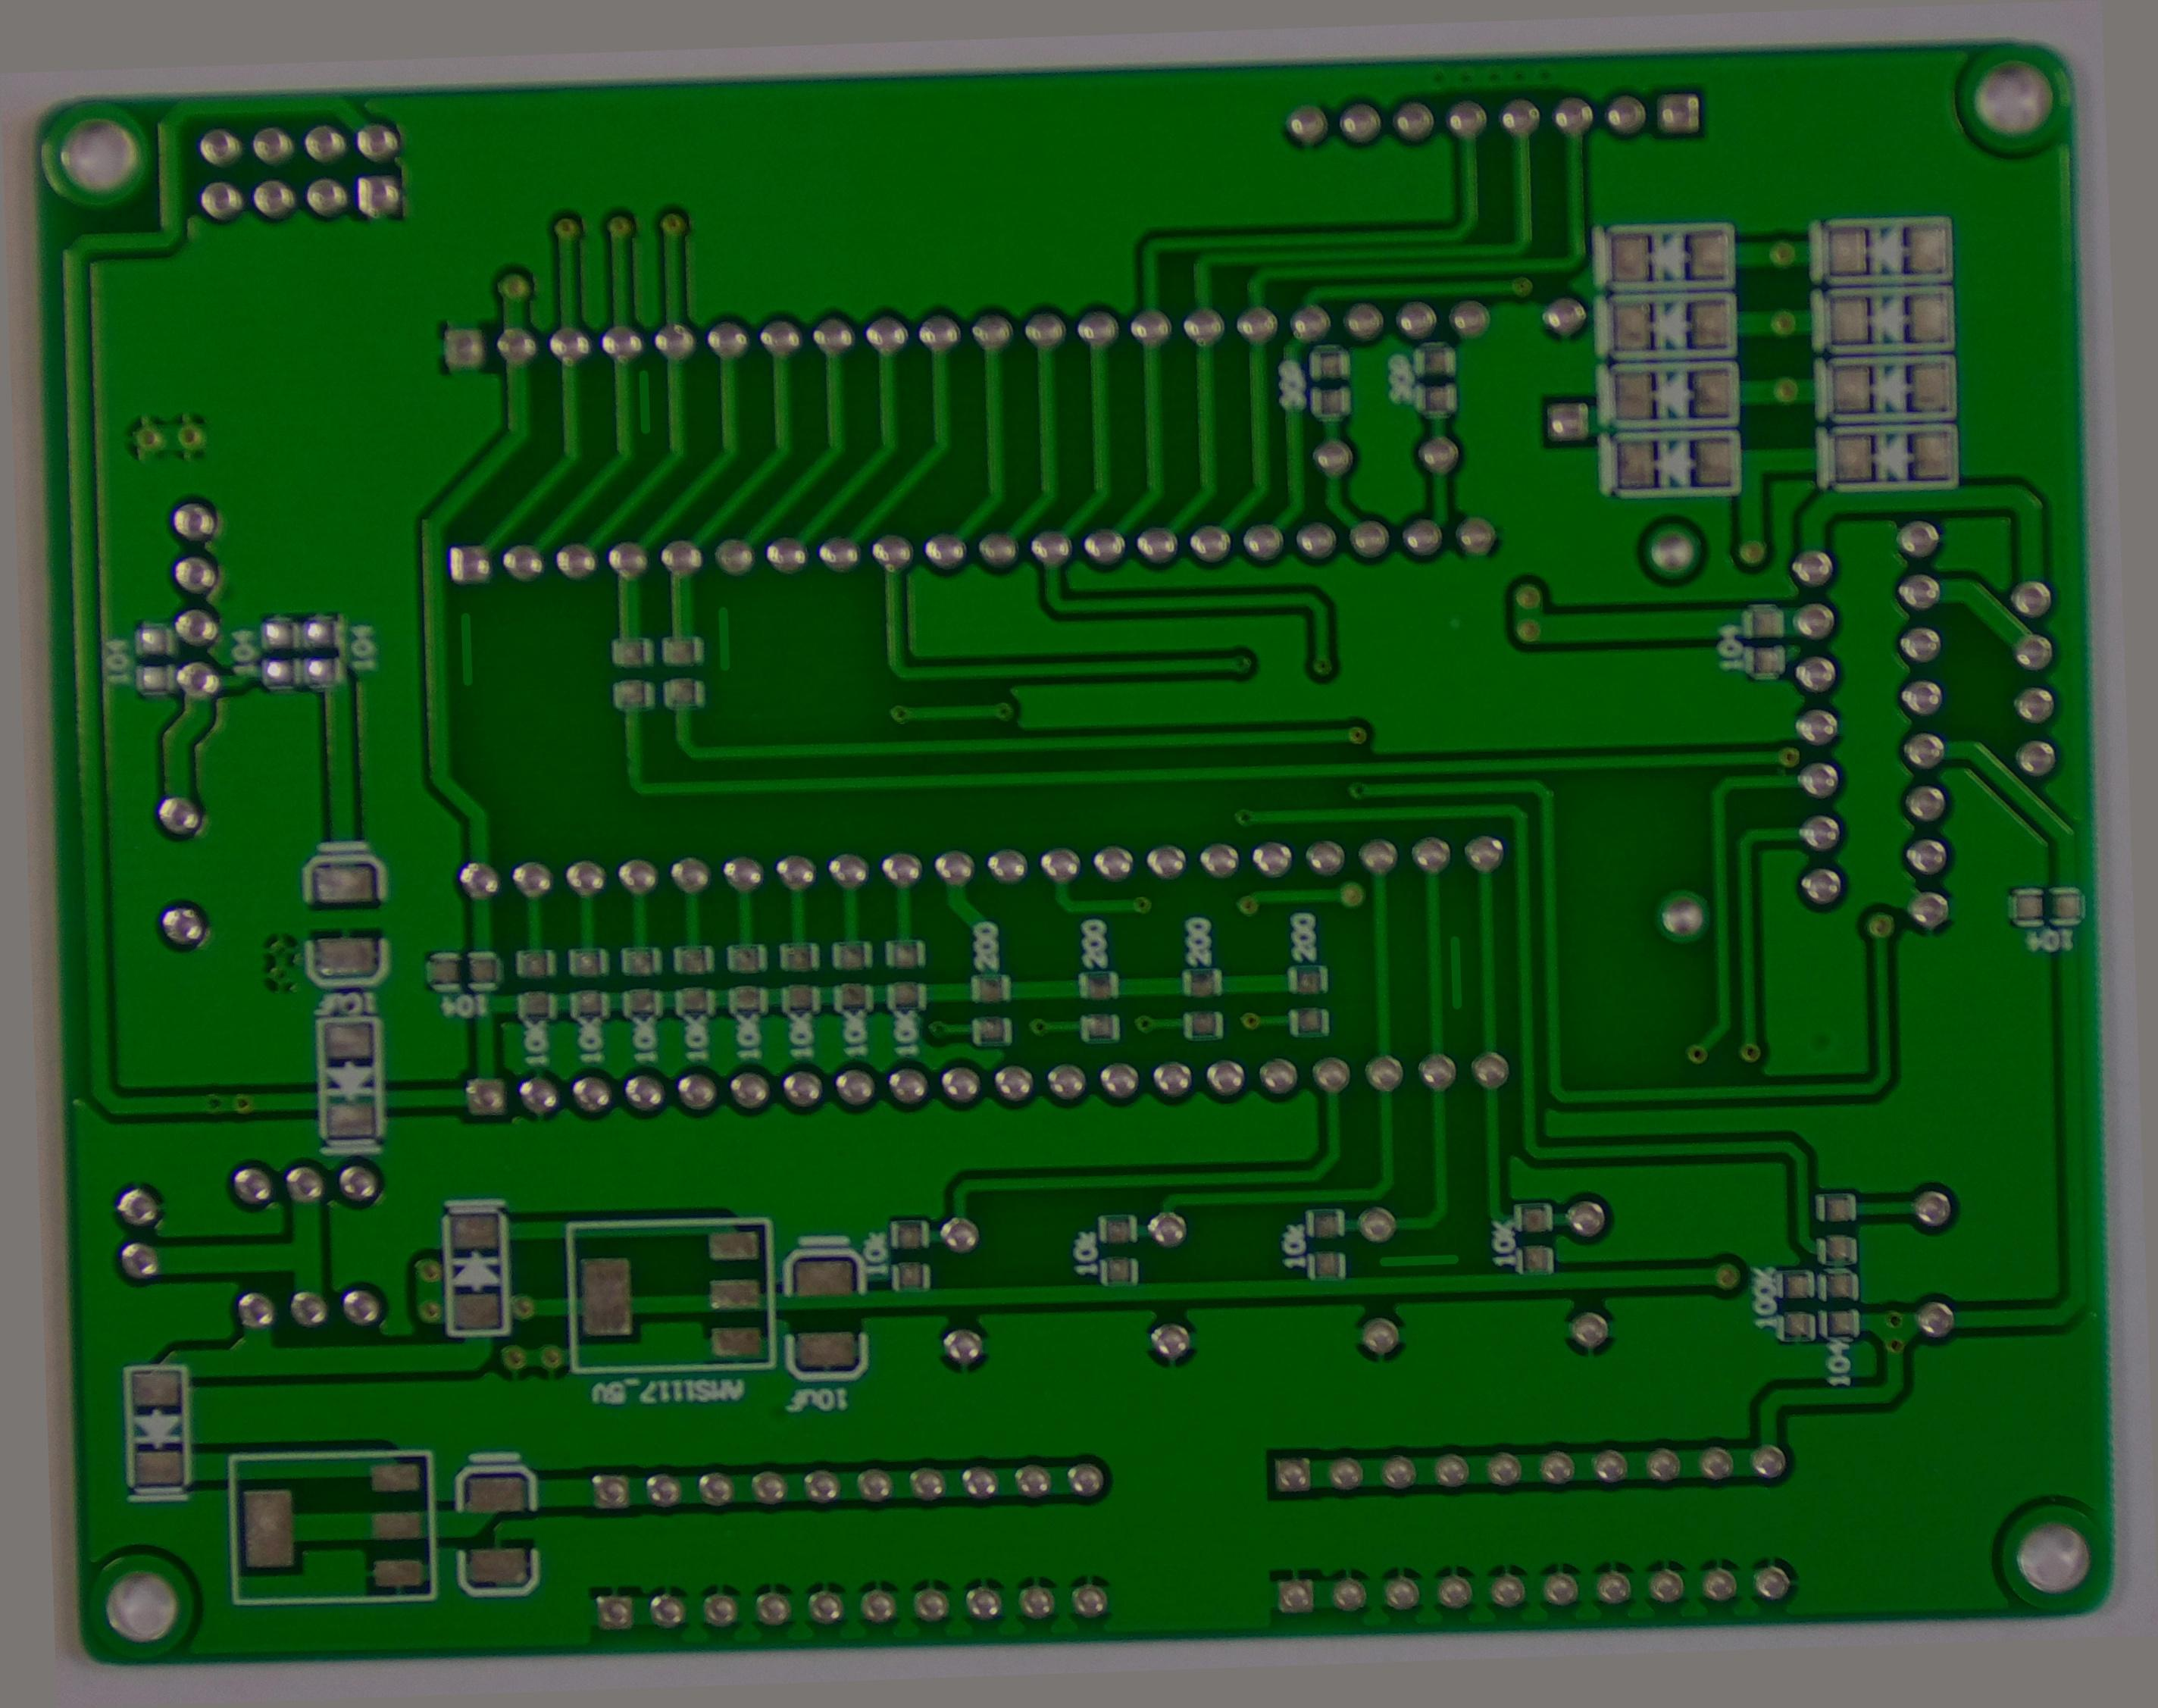spurious_copper: (1370, 1242, 1468, 1282), (1438, 921, 1477, 1023), (445, 601, 482, 695), (625, 363, 662, 447), (706, 596, 743, 680)
